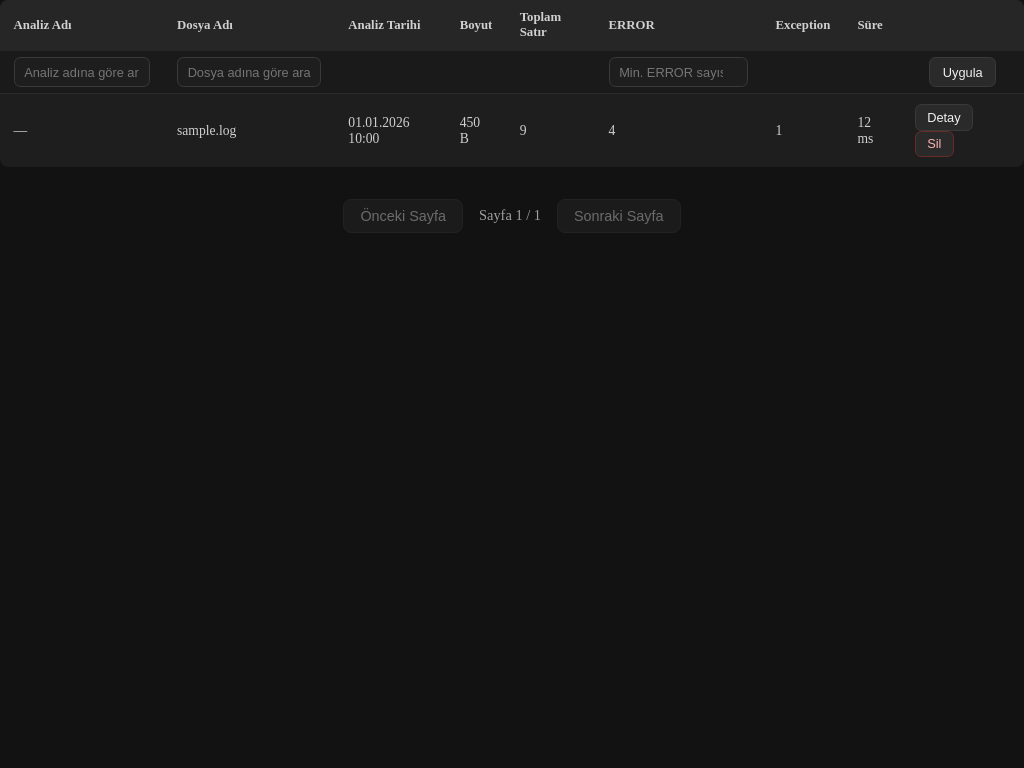
Test: HistoryView › silme onaylanınca listeyi yeniler ve başarı mesajı gösterir
Expected: the text "sample.log" is shown, x1=163 y1=94 x2=335 y2=167
Click the button "Sil" at (934, 144), box x1=915 y1=130 x2=954 y2=157
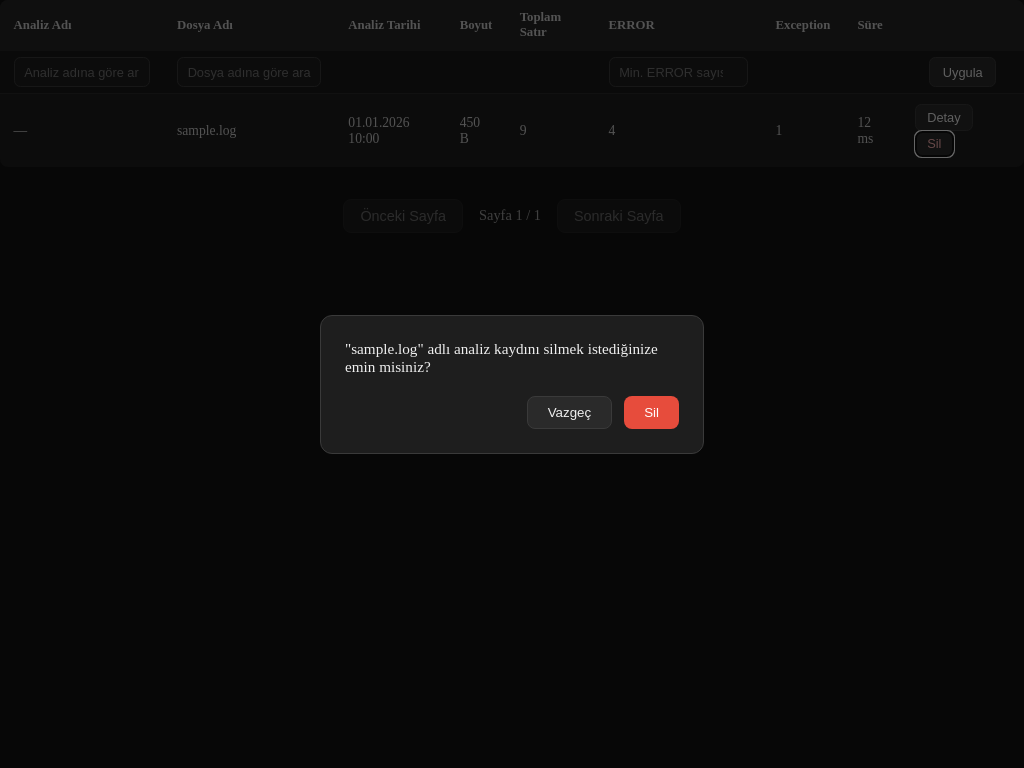
Click the button "Sil" at (652, 412), box x1=624 y1=396 x2=679 y2=428
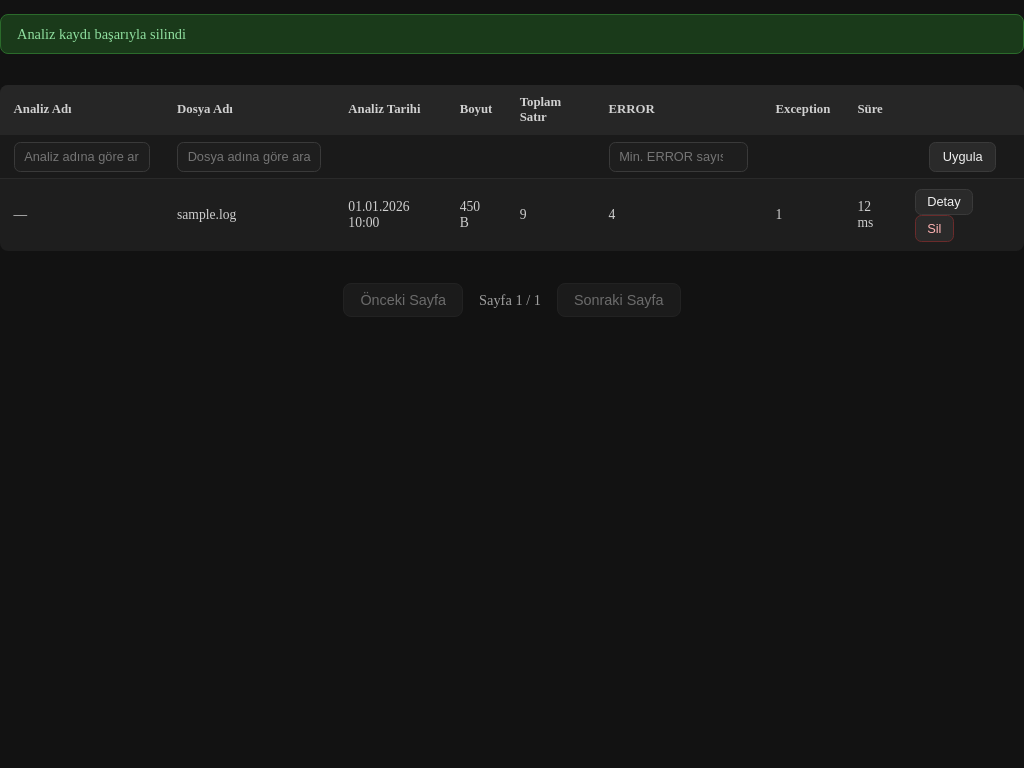
Expected: the text "Analiz kaydı başarıyla silindi" is shown, x1=0 y1=14 x2=1023 y2=54
